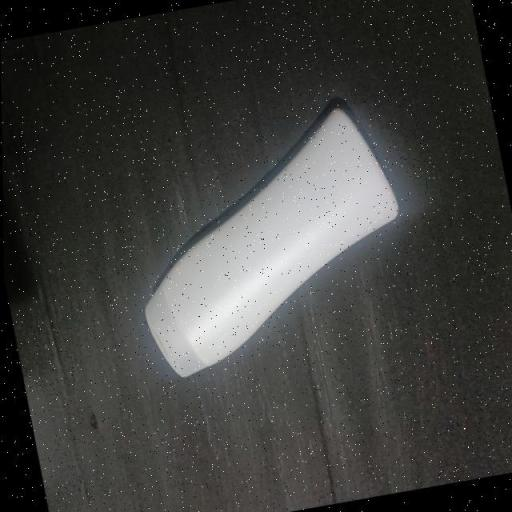plastic: (76, 73, 444, 414)
